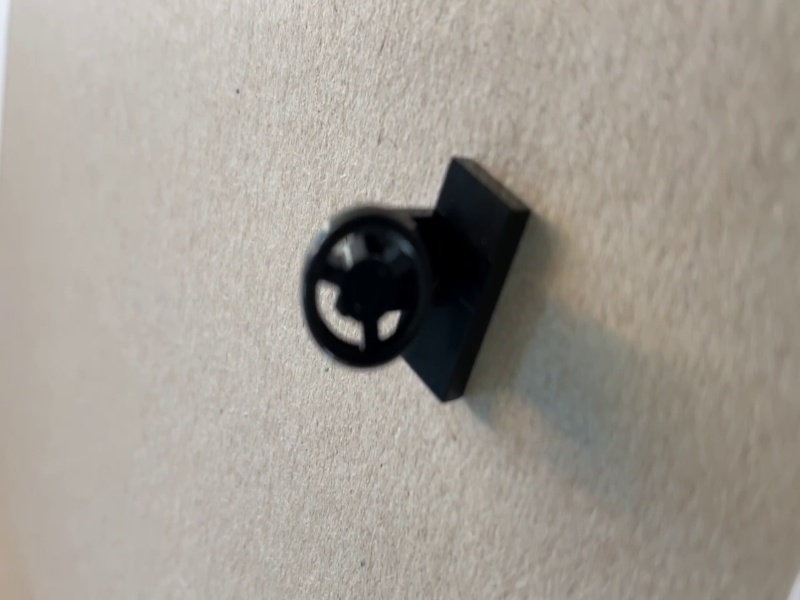steering wheel: (302, 156, 534, 407)
